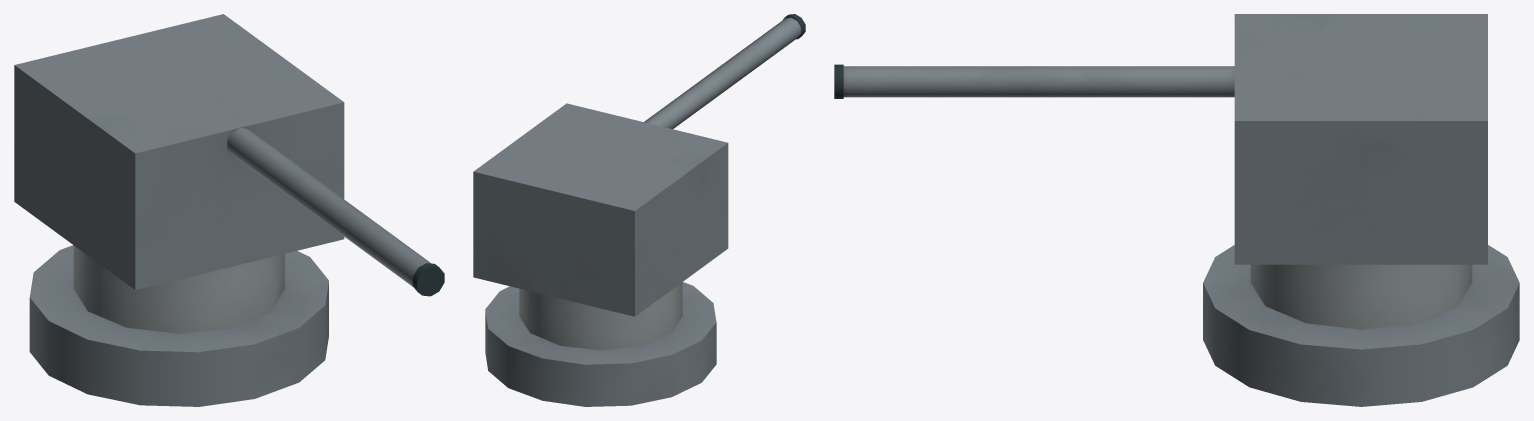
File: naval-gun.fbx
3 views of the same model, side by side, from view 1: azimuth 30°, elevation 25°; view 2: azimuth 150°, elevation 25°; view 3: azimuth 270°, elevation 25° (orthographic). The views are drawn at different scales.
Parts seen in each view (by area): view 1: naval-gun; view 2: naval-gun; view 3: naval-gun.
Part boxes in pixels (x1=…): naval-gun: x1=14, y1=14, x2=444, y2=406; naval-gun: x1=473, y1=14, x2=805, y2=406; naval-gun: x1=834, y1=14, x2=1519, y2=406.
Size of the model in its own units: 10 by 9.55 by 21.65.
1 material, 1 textured.
